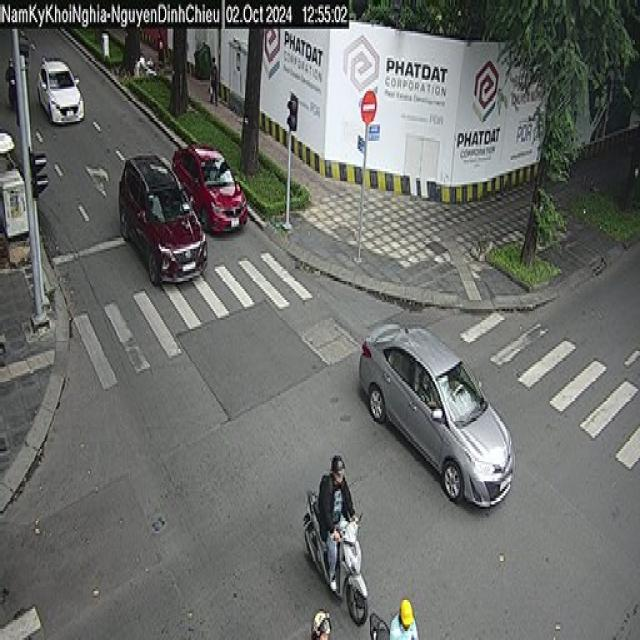car: (360, 309, 521, 516), (112, 162, 212, 282), (172, 147, 250, 238), (34, 60, 86, 127)
motorcycle: (304, 488, 368, 619), (364, 603, 388, 640), (5, 78, 18, 112)
person: (316, 449, 356, 525), (390, 591, 420, 640), (207, 54, 222, 111), (309, 610, 337, 640), (6, 50, 18, 86)
